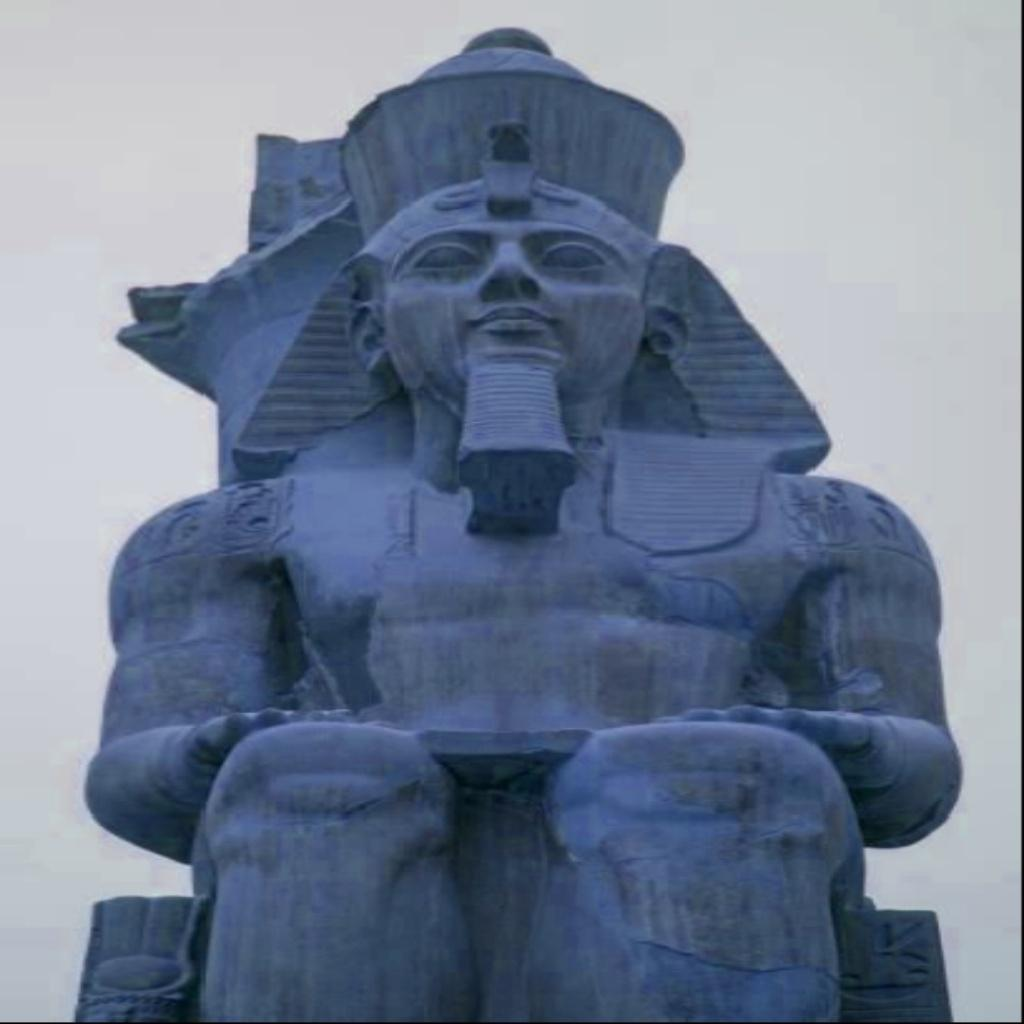Statue of King Ramses II Luxor Temple: (78, 25, 961, 1021)
